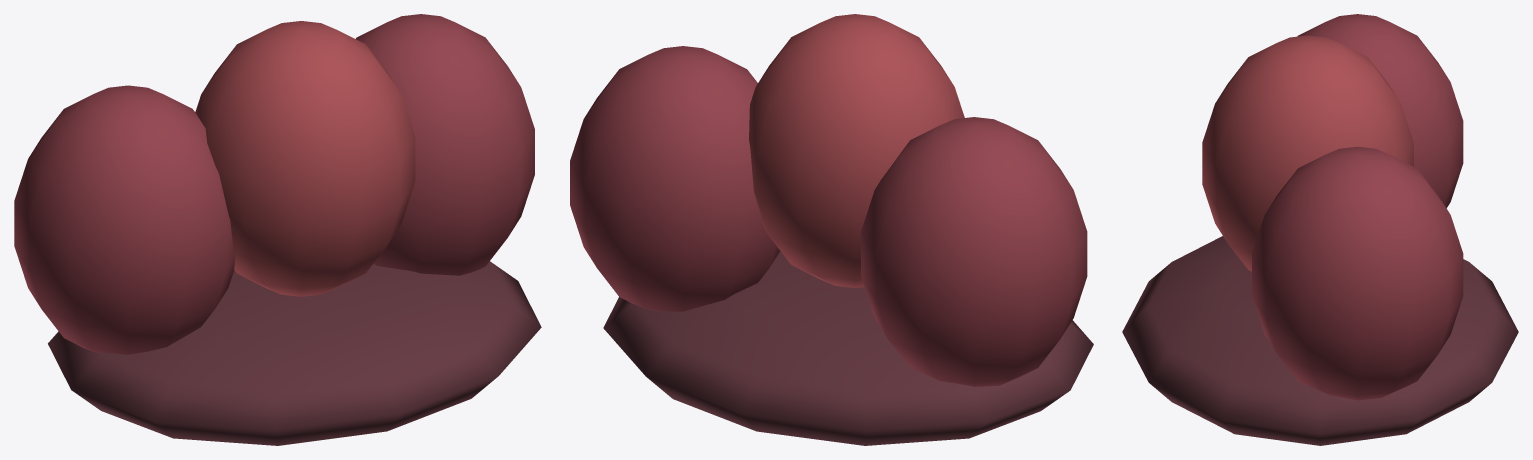
File: splash.glb
3 renders of one model, left to right at view 1: azimuth 30°, elevation 25°; view 2: azimuth 150°, elevation 25°; view 3: azimuth 270°, elevation 25°, orthographic. The views are drawn at different scales.
Parts seen in each view (by area): view 1: splash; view 2: splash; view 3: splash.
Part boxes in pixels (left/top/right/bottom): splash: left=14, top=14, right=541, bottom=445; splash: left=570, top=14, right=1093, bottom=445; splash: left=1122, top=14, right=1518, bottom=445.
Bounding box in the file's own units: 0.636 × 0.455 × 0.48.
